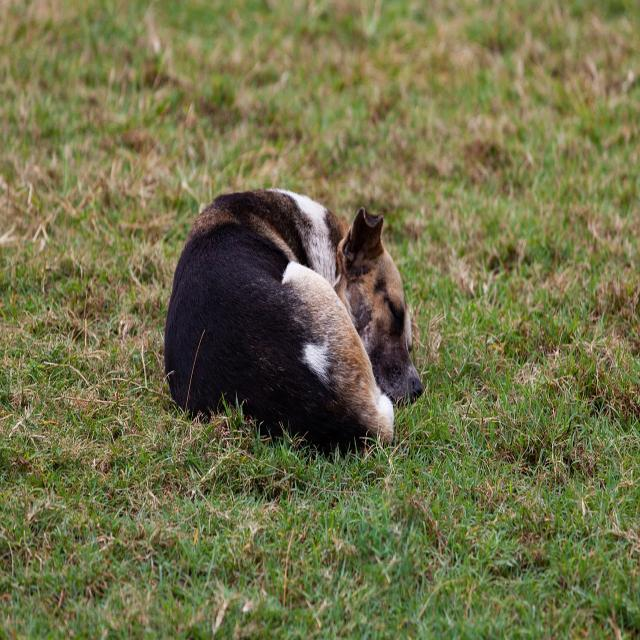dog: (164, 168, 427, 454)
